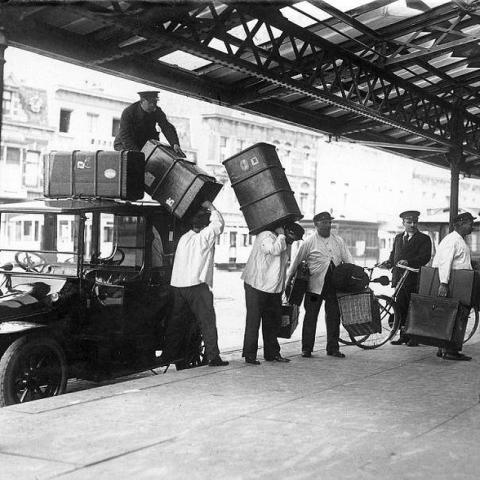truck: (0, 193, 185, 406)
